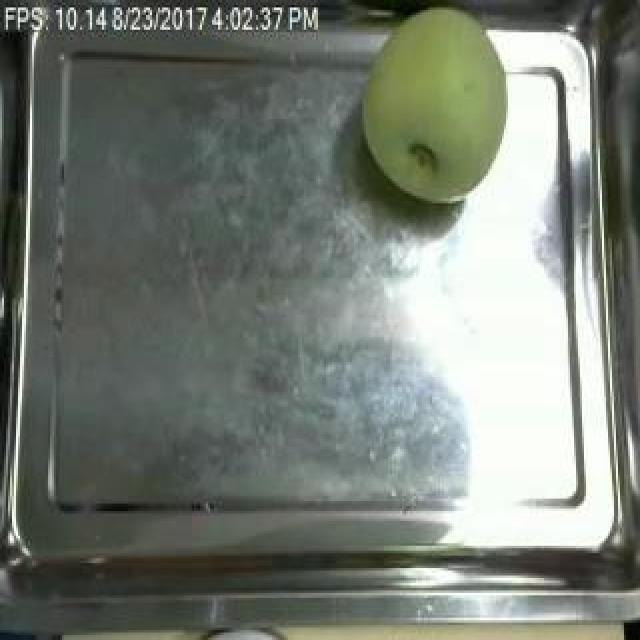Rotten Apple: (357, 0, 517, 243)
